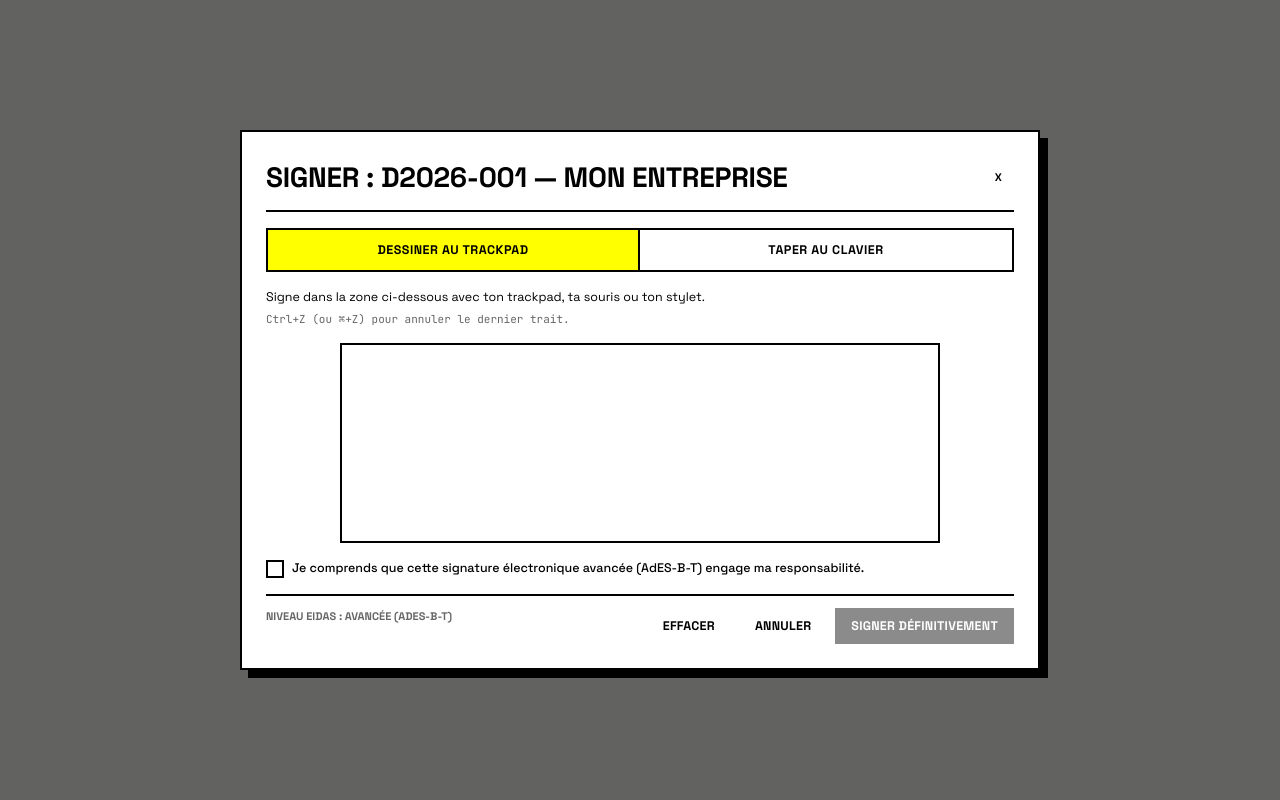
SignatureModal › bascule entre onglets draw et type
The width and height of the screenshot is (1280, 800).
Click the tab "Taper au clavier" at x=826, y=250, box [640, 230, 1012, 270]
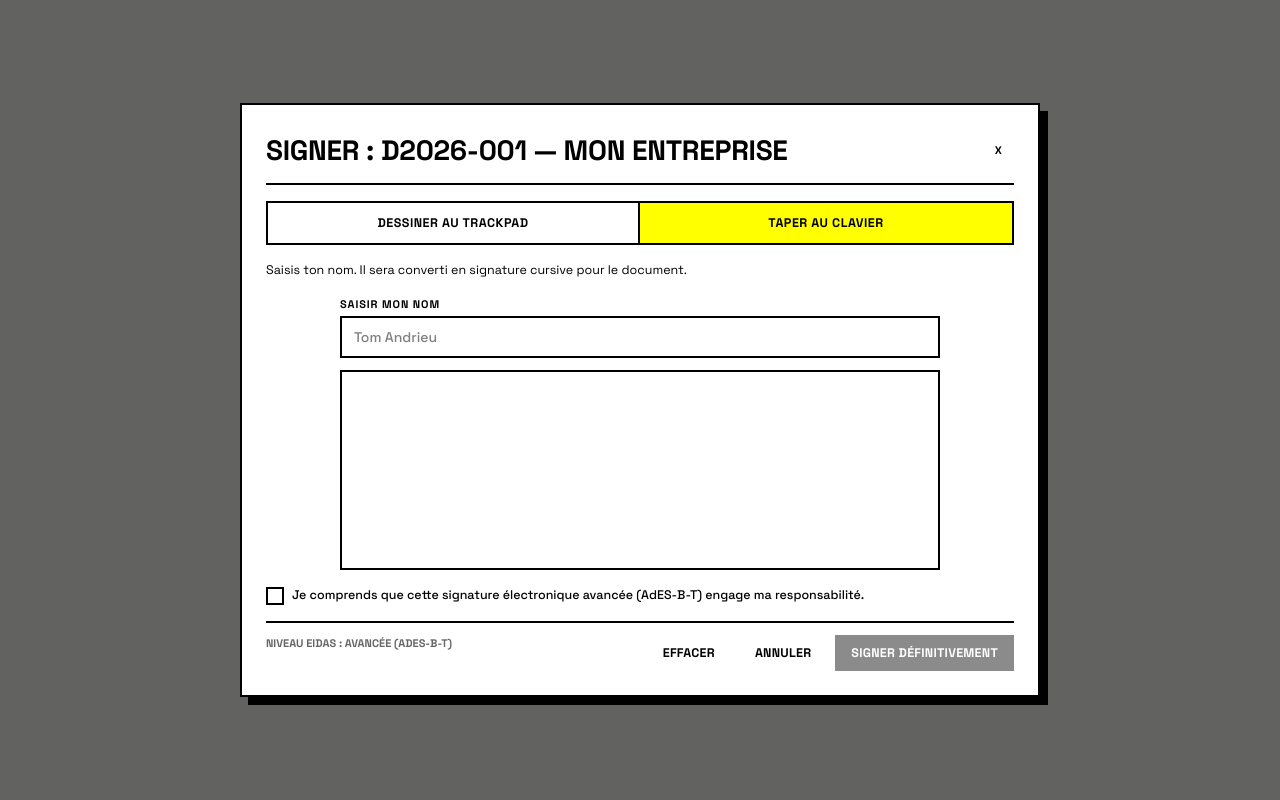
Now the field with test id "signature-modal-type-input" is shown, box [340, 316, 940, 358]
